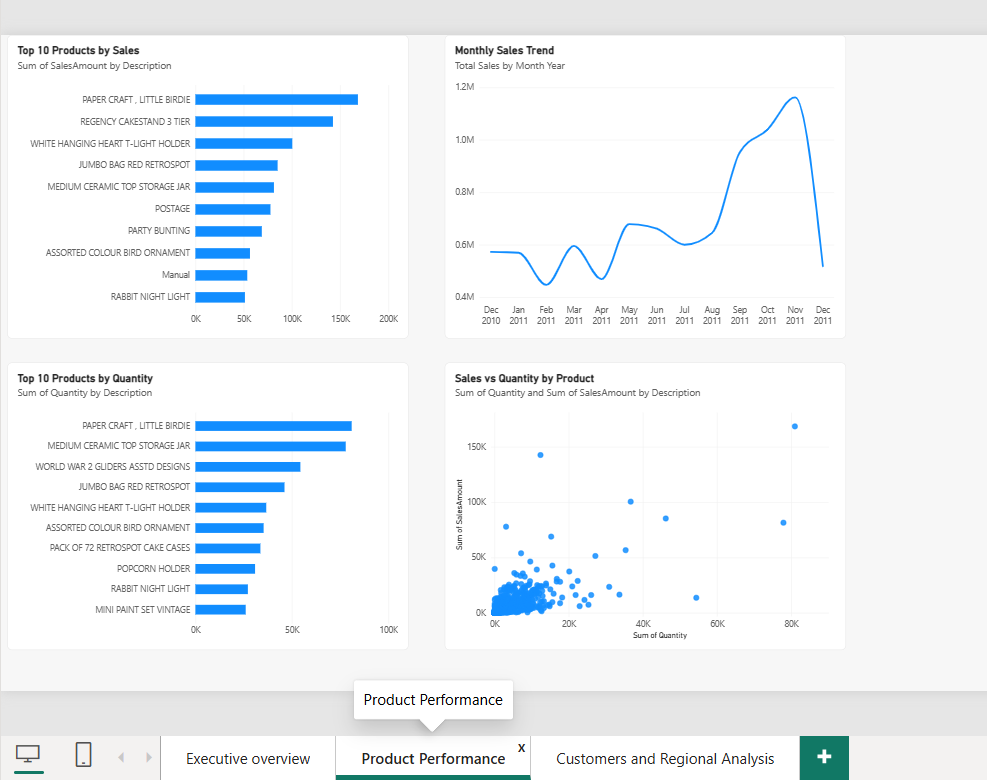

The dashboard page shown, as its layout file describes it:
{"tool":"powerbi","page":{"name":"Product Performance","canvas":[1920,1080],"ordinal":1},"visuals":[{"type":"clusteredBarChart","title":"Top 10 Products by Sales","fields":{"Category":["Online Retail.Description"],"Y":["Sum(Online Retail.SalesAmount)"]},"box":[10.3,0,660.7,500.2],"z":0},{"type":"clusteredBarChart","title":"Top 10 Products by Quantity","fields":{"Category":["Online Retail.Description"],"Y":["Sum(Online Retail.Quantity)"]},"box":[10.3,539.3,660.7,473.4],"z":2000},{"type":"scatterChart","title":"Sales vs Quantity by Product","fields":{"Category":["Online Retail.Description"],"X":["Sum(Online Retail.Quantity)"],"Y":["Sum(Online Retail.SalesAmount)"]},"box":[730.7,539.3,660.7,473.4],"z":3000},{"type":"lineChart","title":"Monthly Sales Trend","fields":{"Category":["DateTable.Month Year"],"Y":["Online Retail.Total Sales"]},"box":[730.7,0,661,500],"z":3001}]}

Visuals, with their boxes on the page's 1920x1080 design canvas (x1, y1, x2, y2). These are canvas units, not pixel positions in the 987x780 screenshot, which may show the page scaled, cropped or inside an application window:
"Top 10 Products by Sales" clusteredBarChart: x1=10, y1=0, x2=671, y2=500
"Top 10 Products by Quantity" clusteredBarChart: x1=10, y1=539, x2=671, y2=1013
"Sales vs Quantity by Product" scatterChart: x1=731, y1=539, x2=1391, y2=1013
"Monthly Sales Trend" lineChart: x1=731, y1=0, x2=1392, y2=500
